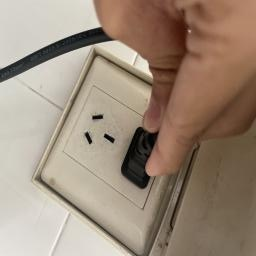outlet: (32, 52, 201, 247)
